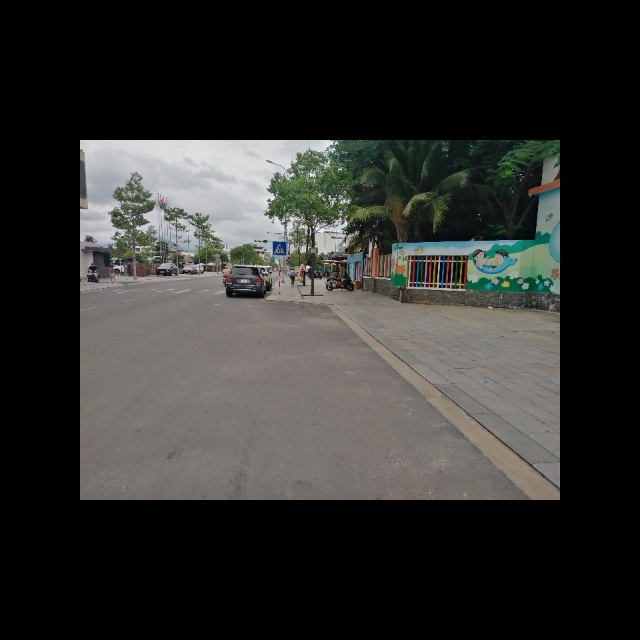Đường dành cho người đi bộ: (272, 240, 287, 256)
